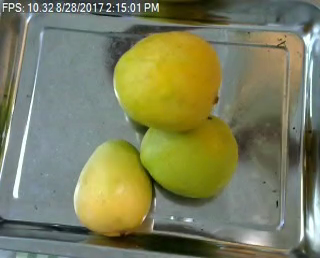Mango: (114, 33, 220, 132), (139, 114, 238, 197), (73, 138, 152, 235)
